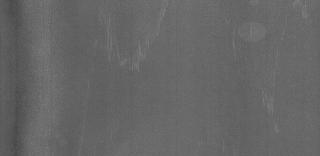silk spot: (100, 11, 166, 82)
